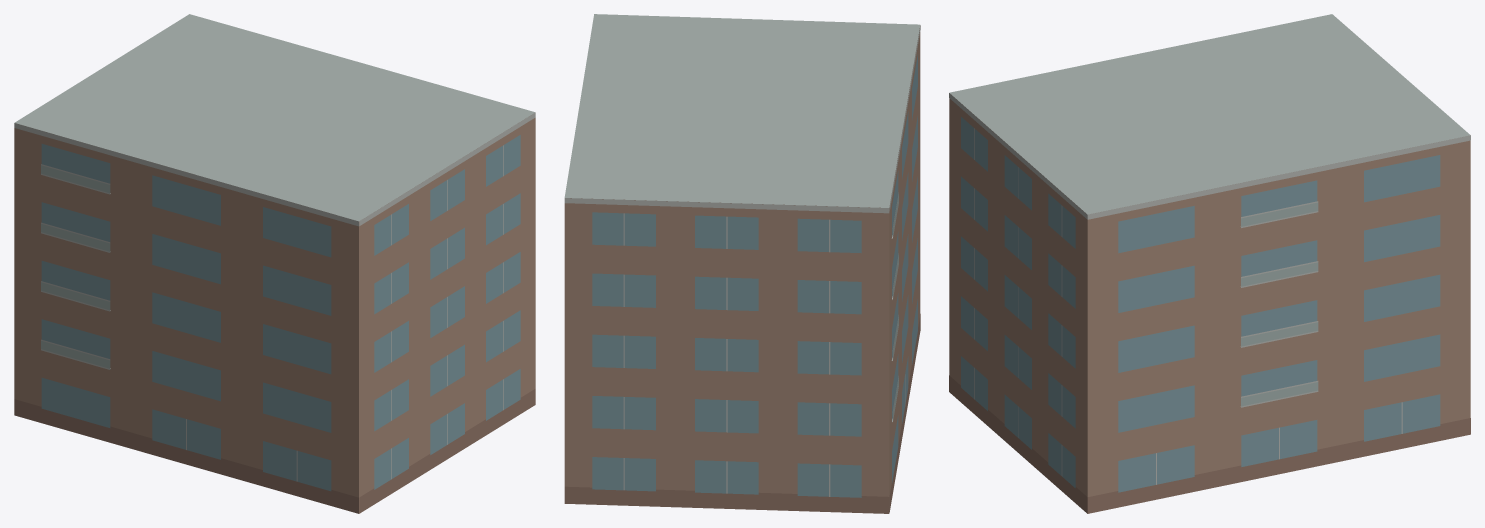
File: survey-upis-33046387.glb
3 views of the same model, side by side, from view 1: azimuth 30°, elevation 25°; view 2: azimuth 150°, elevation 25°; view 3: azimuth 270°, elevation 25° (orthographic). The views are drawn at different scales.
Visible parts, largest first — view 1: survey-upis-33046387.tmp; view 2: survey-upis-33046387.tmp; view 3: survey-upis-33046387.tmp.
Boxes of the visible parts, x1,y1,x2,y2 form: survey-upis-33046387.tmp: [14, 14, 535, 513]; survey-upis-33046387.tmp: [564, 14, 920, 513]; survey-upis-33046387.tmp: [949, 14, 1470, 513].
Size of the model in its own units: 20.36 by 14.15 by 22.37.
